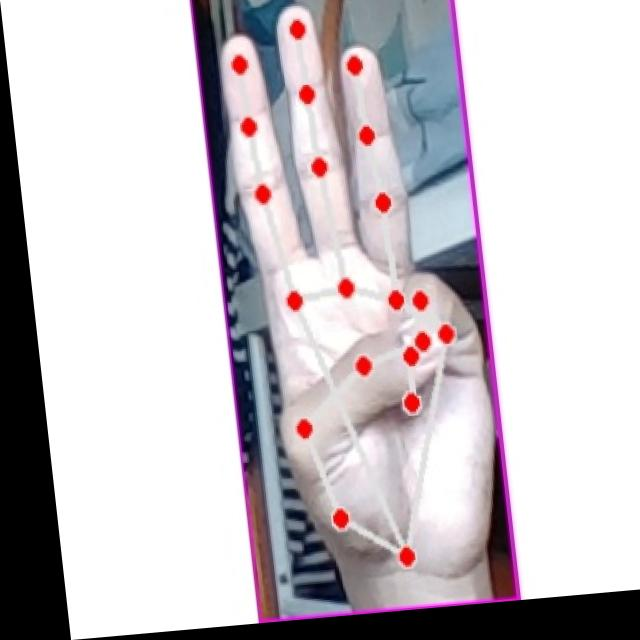W: (206, 0, 492, 592)
